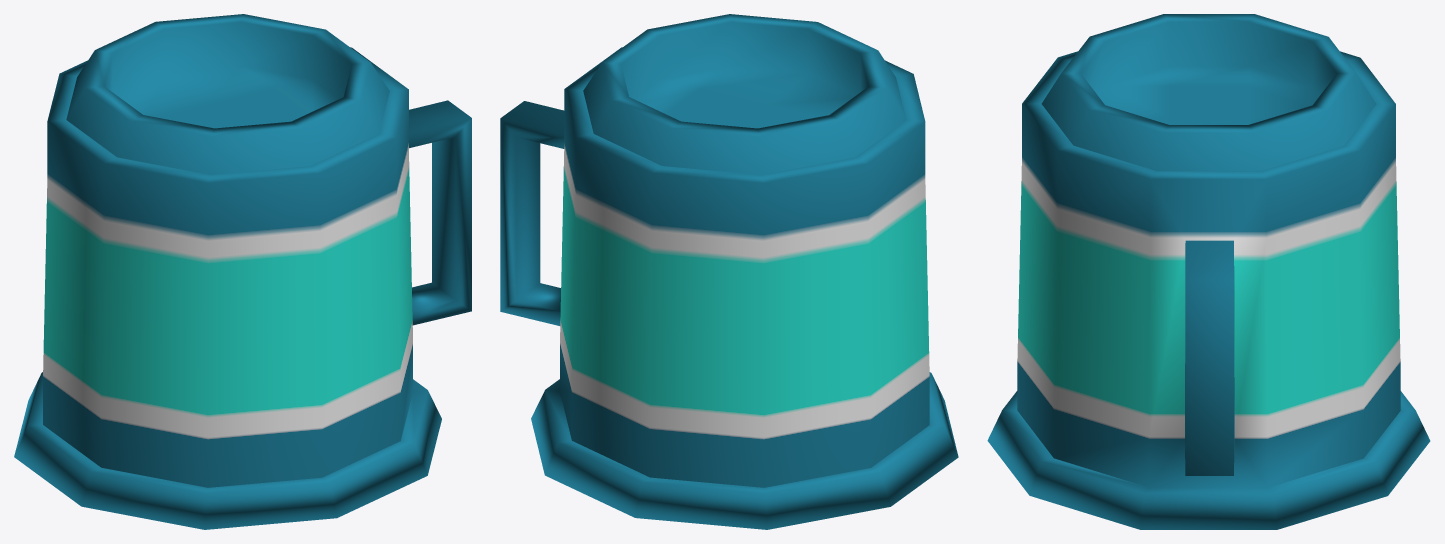
File: BlueMug.obj
The picture shows the model from 3 angles, left to right: view 1: azimuth 30°, elevation 25°; view 2: azimuth 150°, elevation 25°; view 3: azimuth 270°, elevation 25°; orthographic projection.
Visible parts, largest first — view 1: polySurface6; view 2: polySurface6; view 3: polySurface6.
Boxes of the visible parts, x1,y1,x2,y2 form: polySurface6: (14,14,471,529); polySurface6: (500,14,958,529); polySurface6: (987,14,1430,529).
Size of the model in its own units: 2.44 by 2.05 by 2.24.
